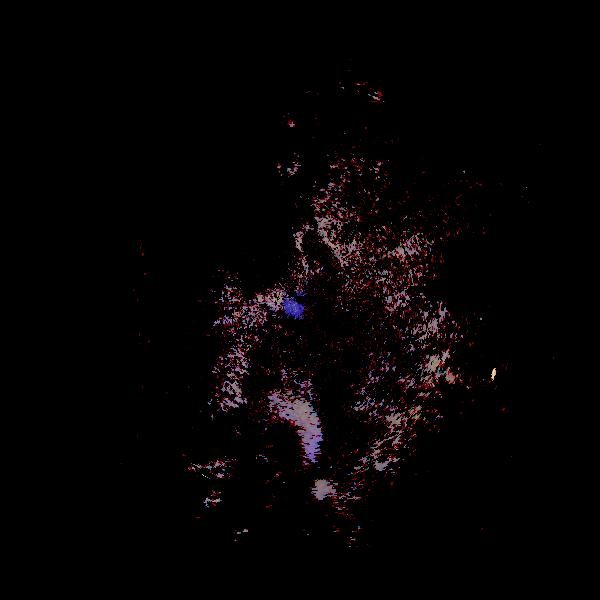roost: (236, 391, 329, 484)
